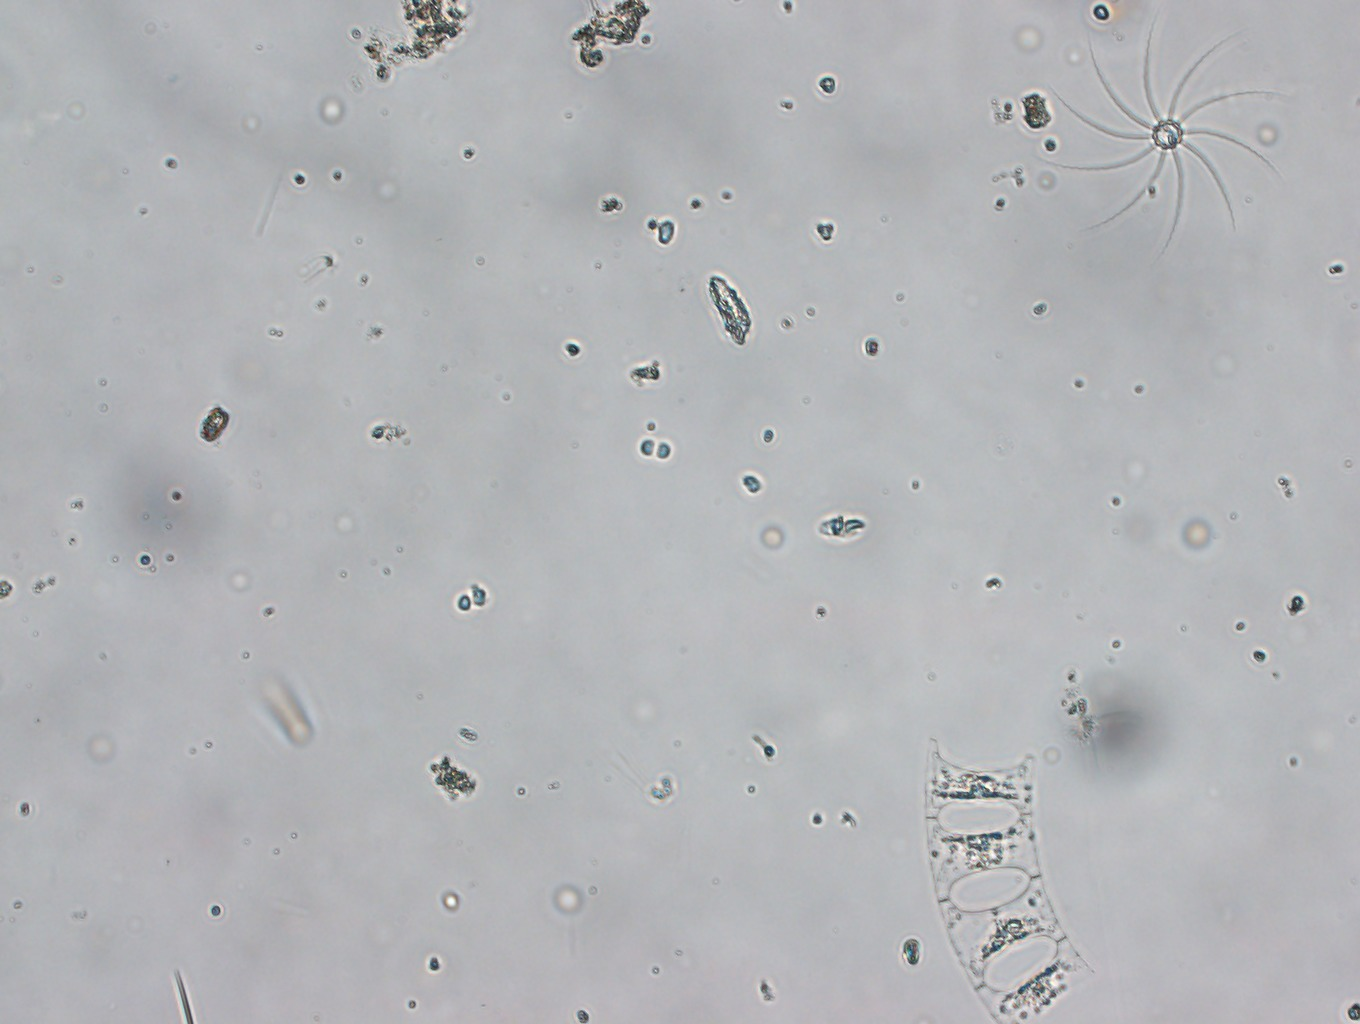bacteriastrum: (1061, 23, 1284, 255)
eucampia: (922, 709, 1071, 1024)
